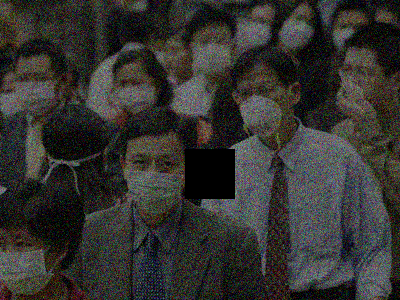with_mask: (123, 148, 188, 217), (1, 231, 57, 295), (236, 80, 293, 135), (15, 67, 62, 116), (191, 30, 233, 78), (114, 74, 159, 116), (279, 10, 317, 52), (330, 18, 368, 53), (246, 13, 273, 47), (1, 84, 21, 117)
without_mask: (339, 59, 393, 111), (163, 44, 191, 75)
